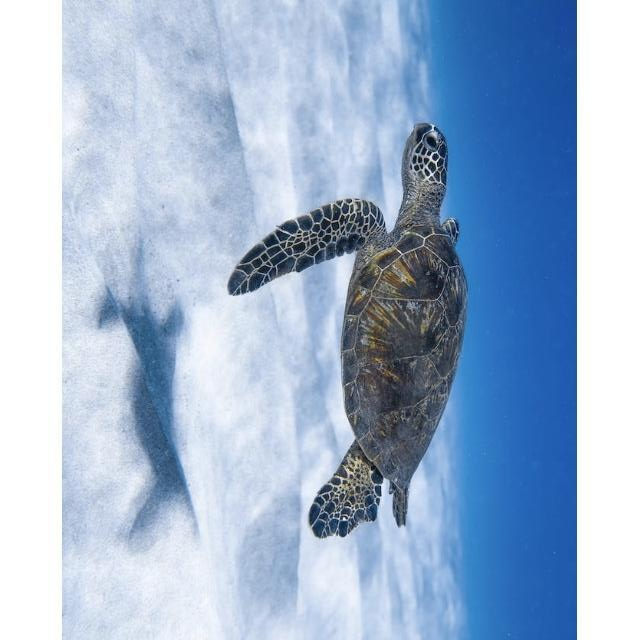turtle: (225, 120, 467, 540)
